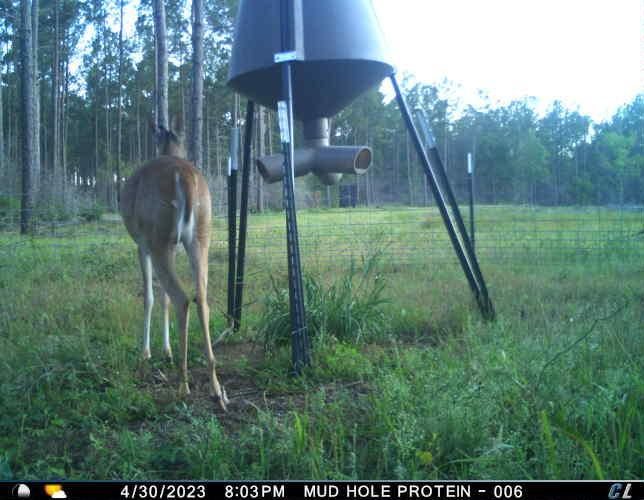Deer: (114, 106, 231, 422)
